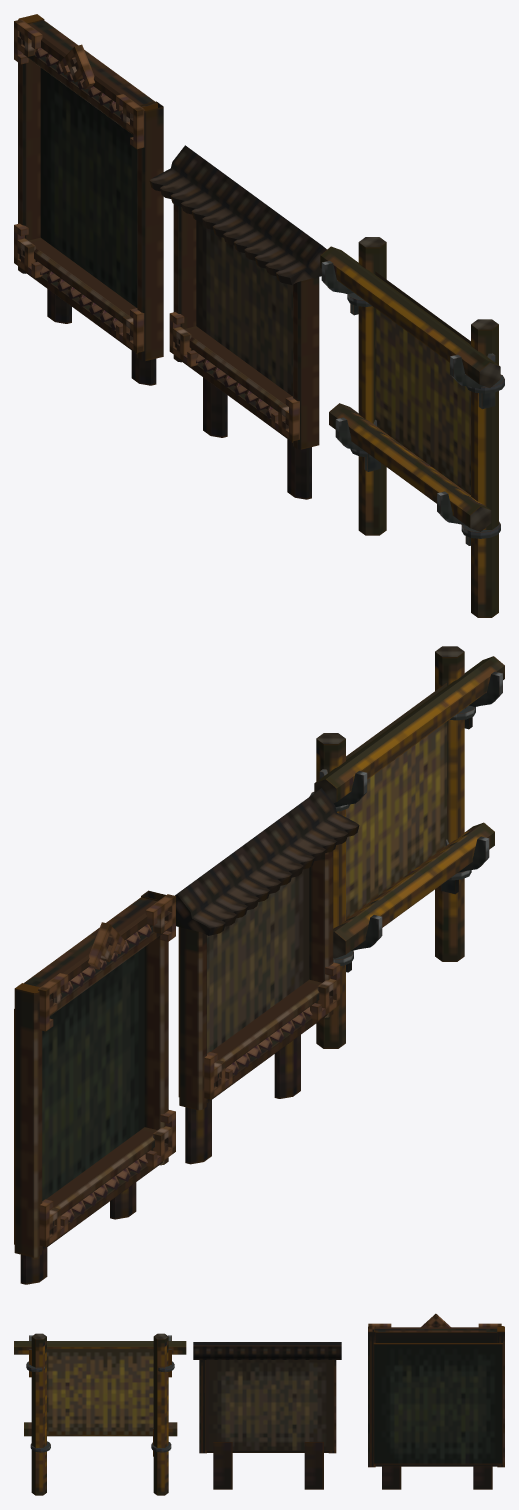
Rendered from EnvObjMD_Bulletinboard_A_black.FBX.
The picture shows the model from 3 angles, top to bottom: view 1: azimuth 30°, elevation 25°; view 2: azimuth 150°, elevation 25°; view 3: azimuth 270°, elevation 25°; orthographic projection. The views are drawn at different scales.
Parts seen in each view (by area): view 1: EnvObjMD_Bulletinboard_A_black, EnvObjMD_Bulletinboard_A_yellow, EnvObjMD_Bulletinboard_A_brown; view 2: EnvObjMD_Bulletinboard_A_black, EnvObjMD_Bulletinboard_A_brown, EnvObjMD_Bulletinboard_A_yellow; view 3: EnvObjMD_Bulletinboard_A_black, EnvObjMD_Bulletinboard_A_brown, EnvObjMD_Bulletinboard_A_yellow.
Boxes of the visible parts, left/top/right/bottom form: EnvObjMD_Bulletinboard_A_black: left=14, top=14, right=163, bottom=385; EnvObjMD_Bulletinboard_A_yellow: left=320, top=237, right=504, bottom=617; EnvObjMD_Bulletinboard_A_brown: left=149, top=145, right=326, bottom=499; EnvObjMD_Bulletinboard_A_black: left=14, top=890, right=175, bottom=1284; EnvObjMD_Bulletinboard_A_brown: left=175, top=788, right=359, bottom=1164; EnvObjMD_Bulletinboard_A_yellow: left=309, top=646, right=504, bottom=1048; EnvObjMD_Bulletinboard_A_black: left=368, top=1313, right=504, bottom=1489; EnvObjMD_Bulletinboard_A_brown: left=193, top=1342, right=341, bottom=1489; EnvObjMD_Bulletinboard_A_yellow: left=14, top=1333, right=186, bottom=1495.
Size of the model in its own units: 61.65 by 243 by 645.
Materials: 1 (1 with a texture image).
